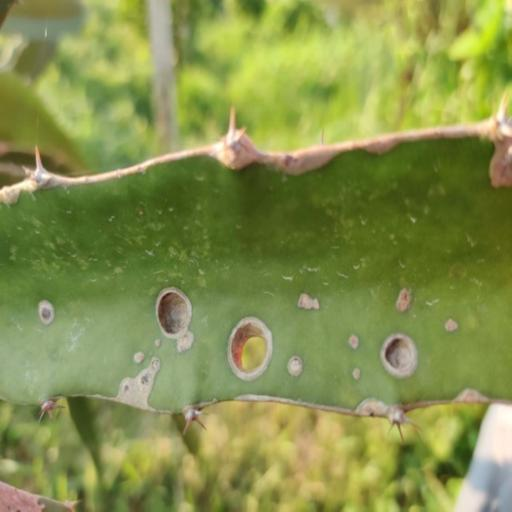stemcanker: (314, 160, 472, 260), (98, 198, 263, 288), (9, 212, 99, 287), (287, 272, 345, 328), (28, 292, 83, 344), (433, 308, 481, 356), (386, 282, 435, 322), (174, 324, 225, 357), (444, 262, 501, 289), (118, 374, 179, 397), (273, 351, 308, 388), (124, 342, 164, 368), (344, 370, 376, 394), (336, 335, 370, 356)
